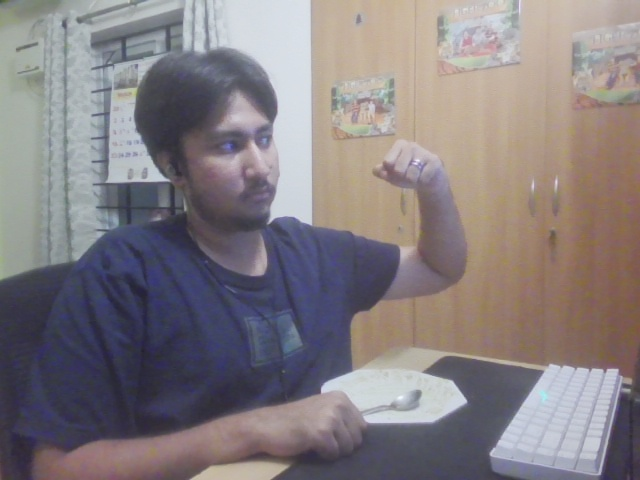yes: (369, 136, 449, 196)
